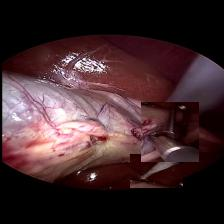Grasper: (140, 103, 198, 162)
Hook: (129, 154, 181, 188)
